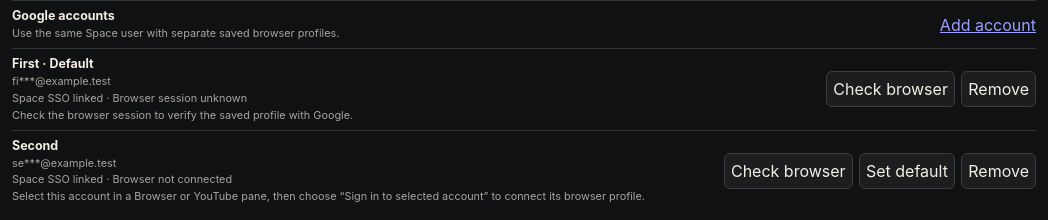
Google account settings › reports a failed check without presenting it as a sign-out
Click the button with aria-label "Check browser session for First": (891, 89) [826,71,955,107]
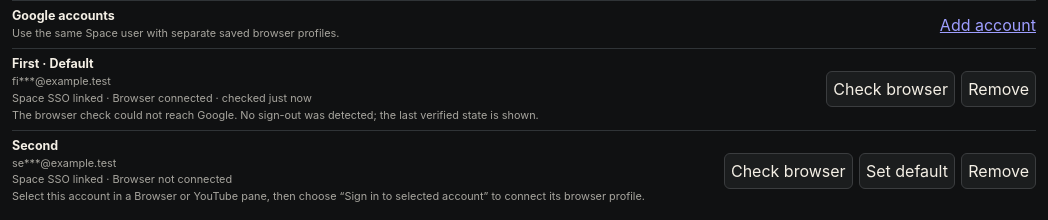
Check: the message shows "could not reach Google. No sign-out was detected", box [12,108,539,122]
Check: the text "Space SSO linked · Browser connected · checked just now" is shown, box [12,91,312,105]
